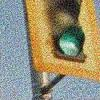traffic lights: (26, 0, 100, 82)
